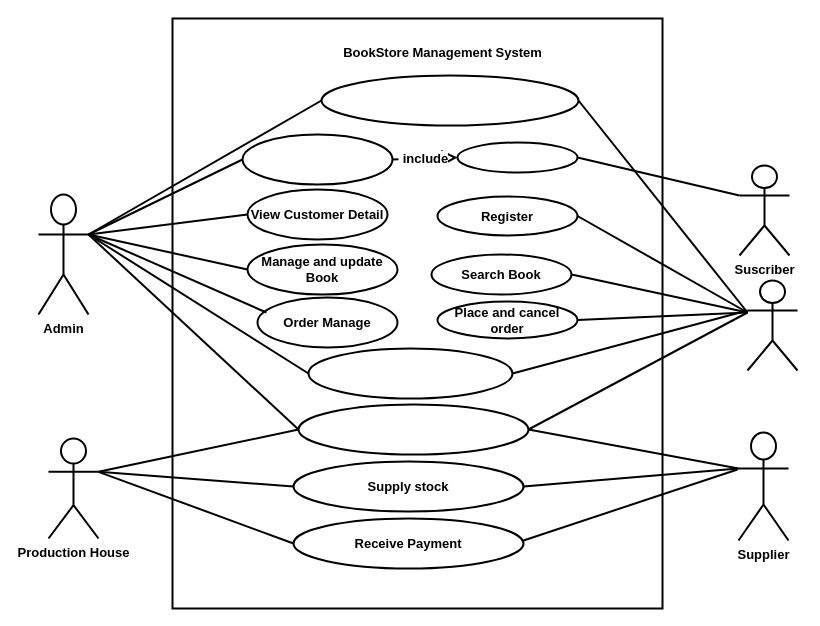
The diagram is 820 pixels wide and 626 high, and some of its shapes have lost their labels. The box of each missing label's shape, as (x1, y1, x2, y2) in pixels:
Add Book: (241, 133, 393, 185)
Customer: (746, 279, 798, 371)
info subscriber: (456, 141, 578, 173)
Login and logout: (297, 403, 529, 455)
Make payment: (307, 347, 513, 399)
View book information: (320, 74, 579, 126)
